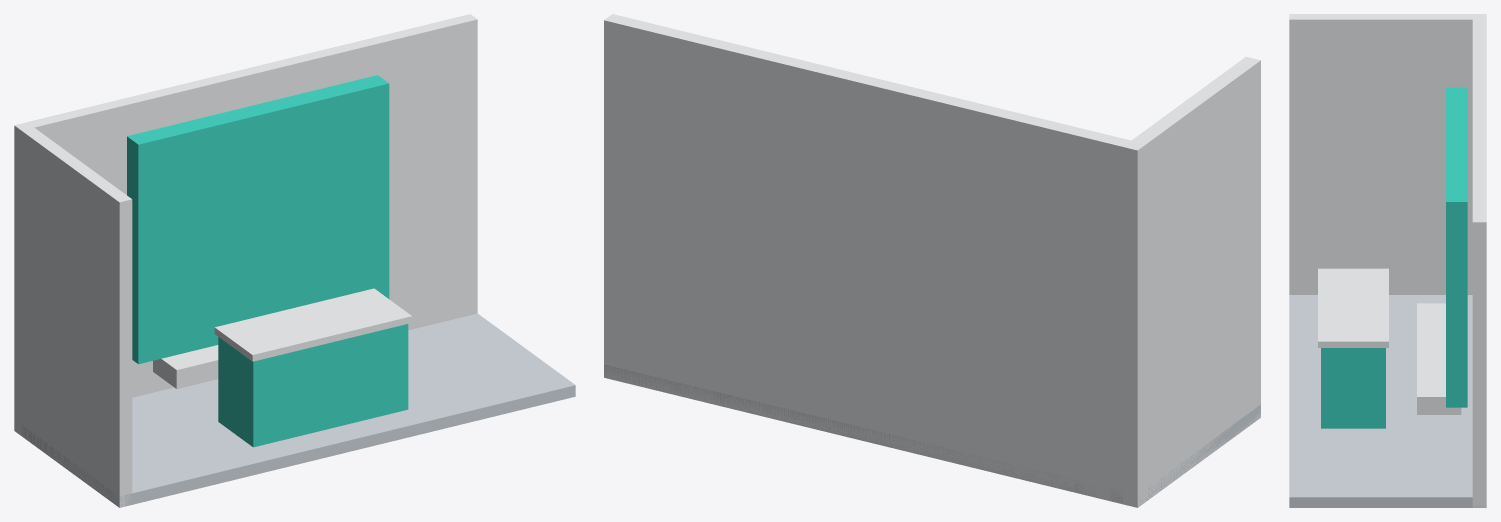
The picture shows the model from 3 angles, left to right: view 1: azimuth 30°, elevation 25°; view 2: azimuth 150°, elevation 25°; view 3: azimuth 270°, elevation 25°; orthographic projection. The views are drawn at different scales.
Visible parts, largest first — view 1: Exhibition Booth Concept; view 2: Exhibition Booth Concept; view 3: Exhibition Booth Concept.
Part boxes in pixels (bbox=[...]): Exhibition Booth Concept: bbox=[14, 14, 575, 507]; Exhibition Booth Concept: bbox=[604, 14, 1260, 507]; Exhibition Booth Concept: bbox=[1289, 14, 1486, 507].
Bounding box in the file's own units: 5 × 3.2 × 2.
